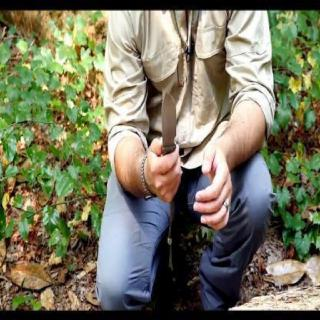knife: (152, 88, 182, 184)
